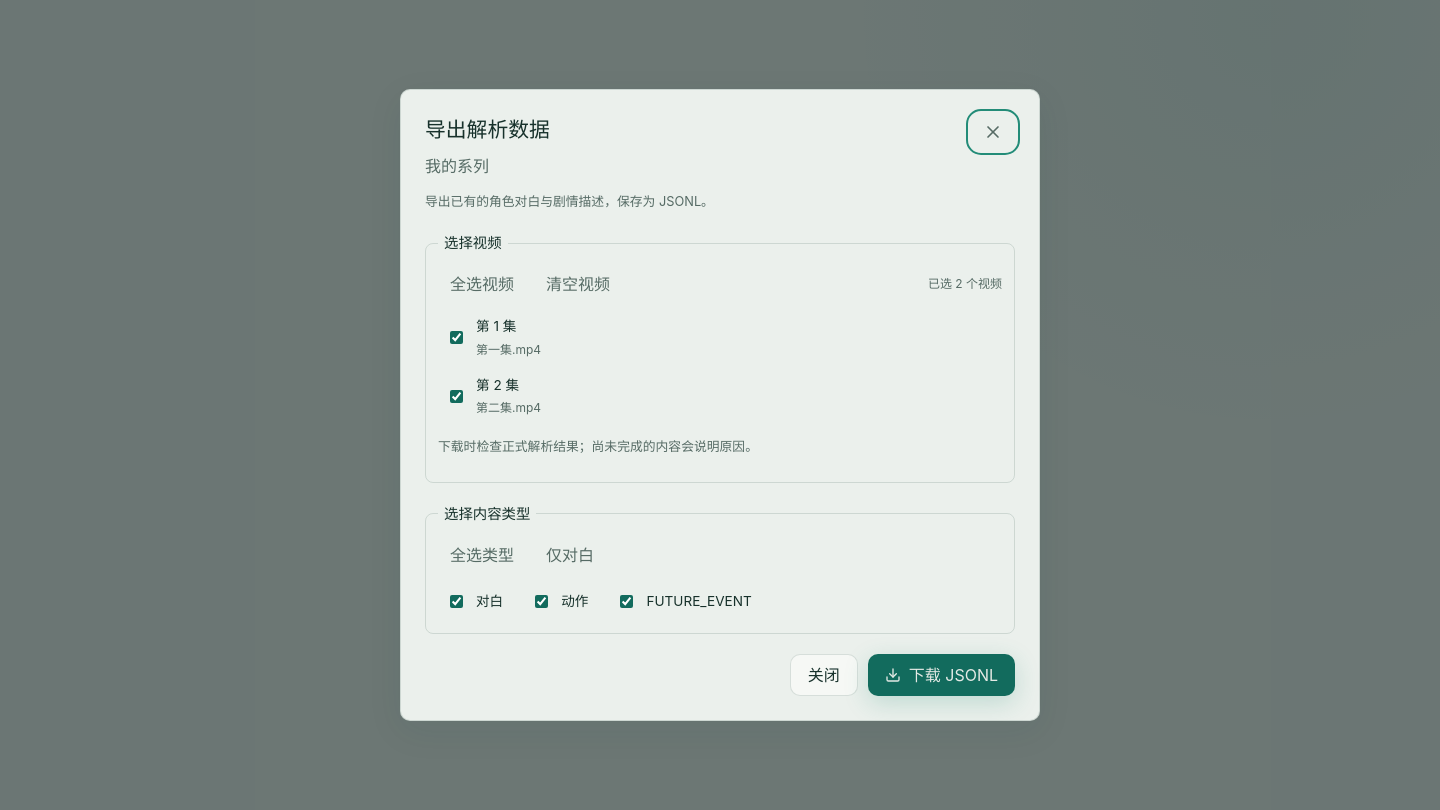
Test case: ParseExportDialog › keeps source errors visible and permits retry without losing selections
Expected: the checkbox labelled "对白" is shown, [450,595,463,608]
Click the button "仅对白".
click(570, 555)  # box [534,537,606,573]
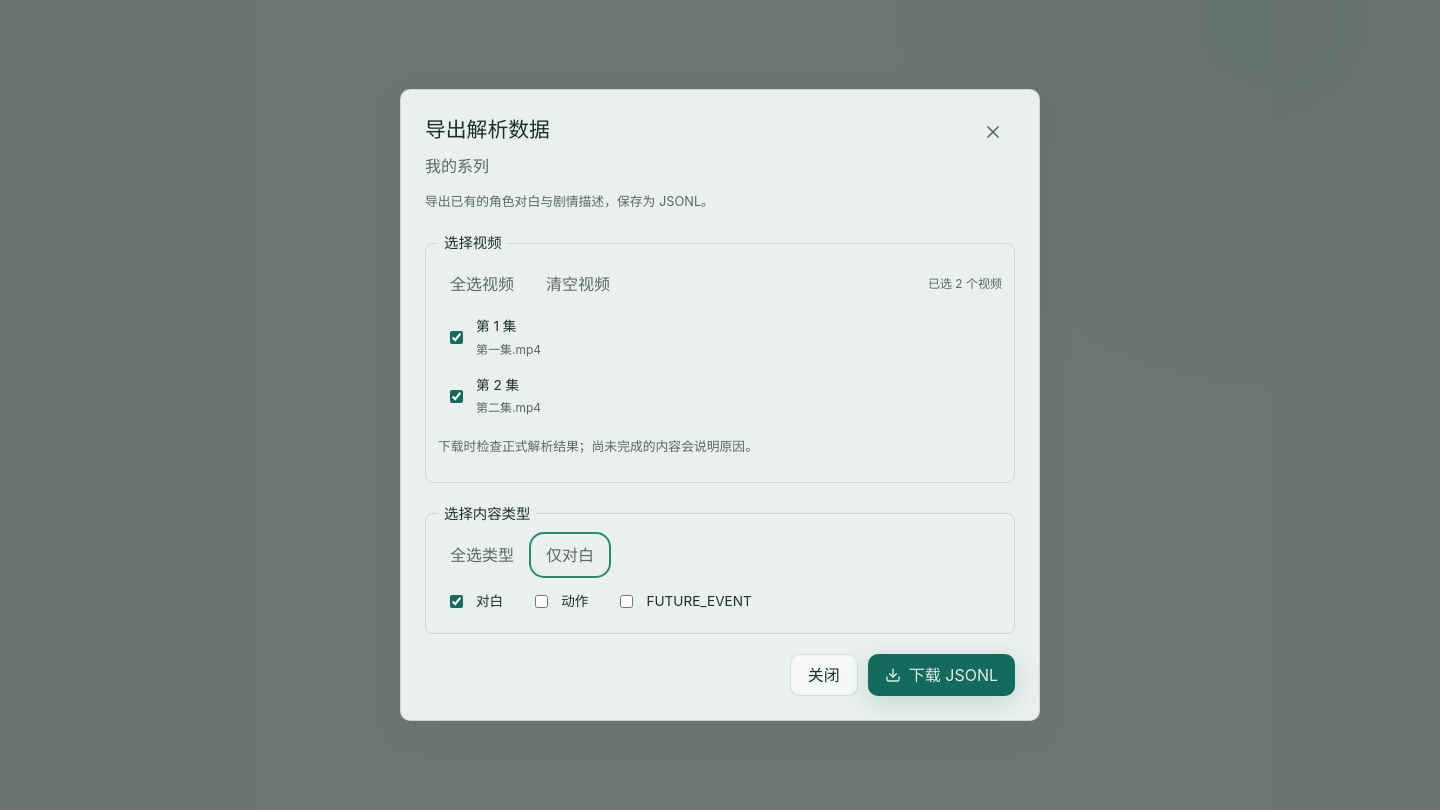
Click the button "下载 JSONL".
click(941, 675)  # box [868,654,1015,696]
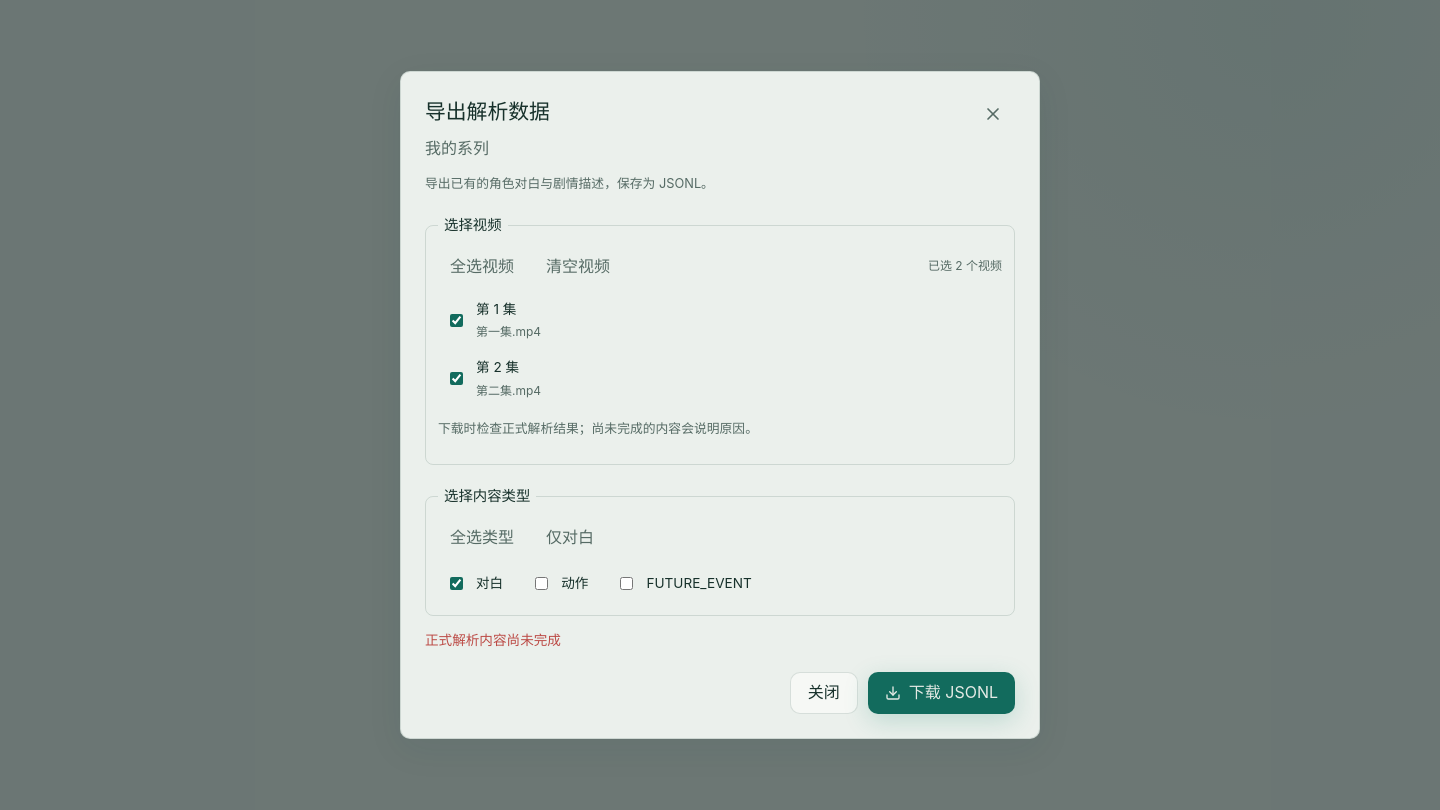
Expected: the checkbox labelled "对白" is checked, [450,577,463,590]
Expected: the checkbox labelled "动作" is not checked, [535,577,548,590]
Expected: the message reads "正式解析内容尚未完成", [425,632,561,648]
Click the button "下载 JSONL".
click(941, 693)  # box [868,672,1015,714]
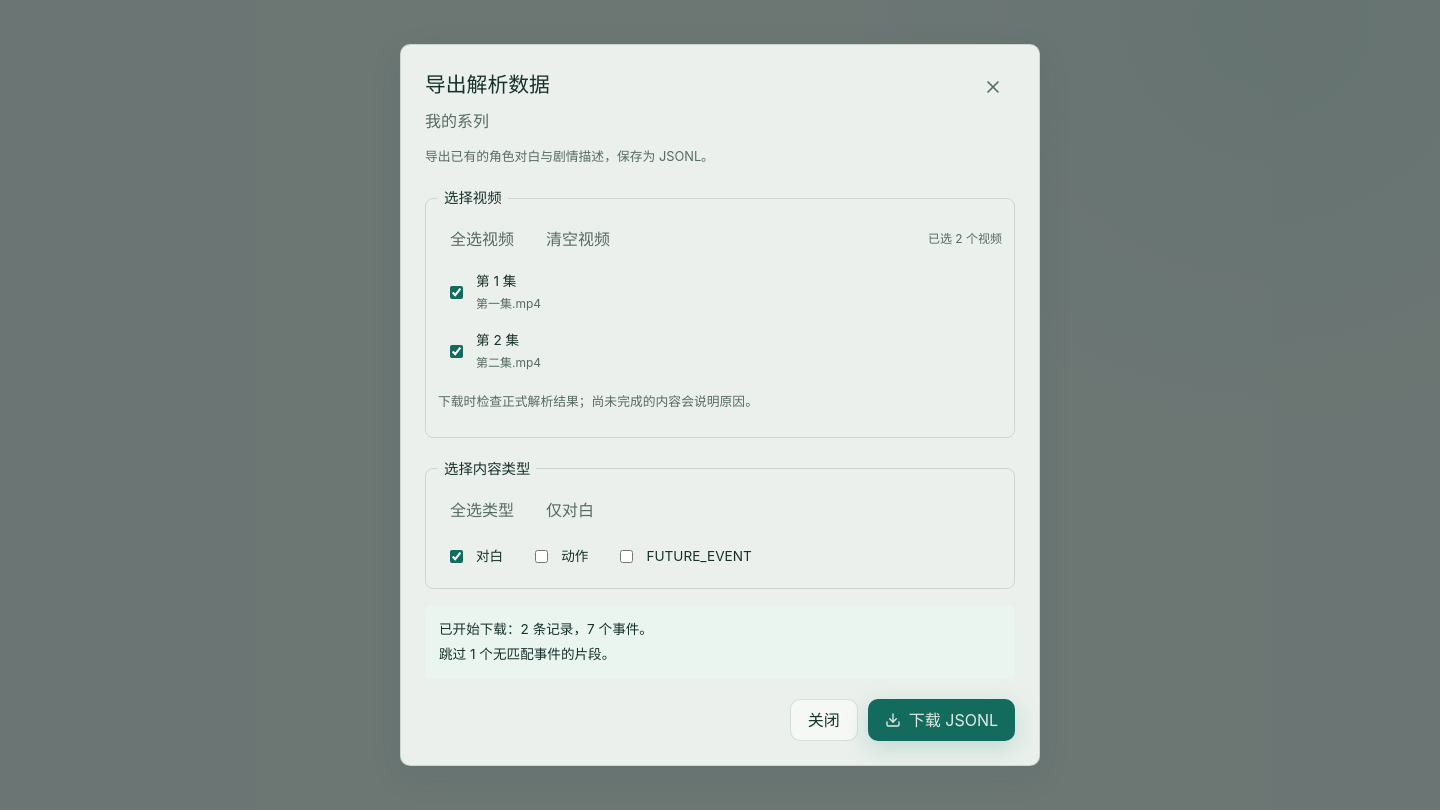
Expected: the message shows "已开始下载", [439,621,653,637]
